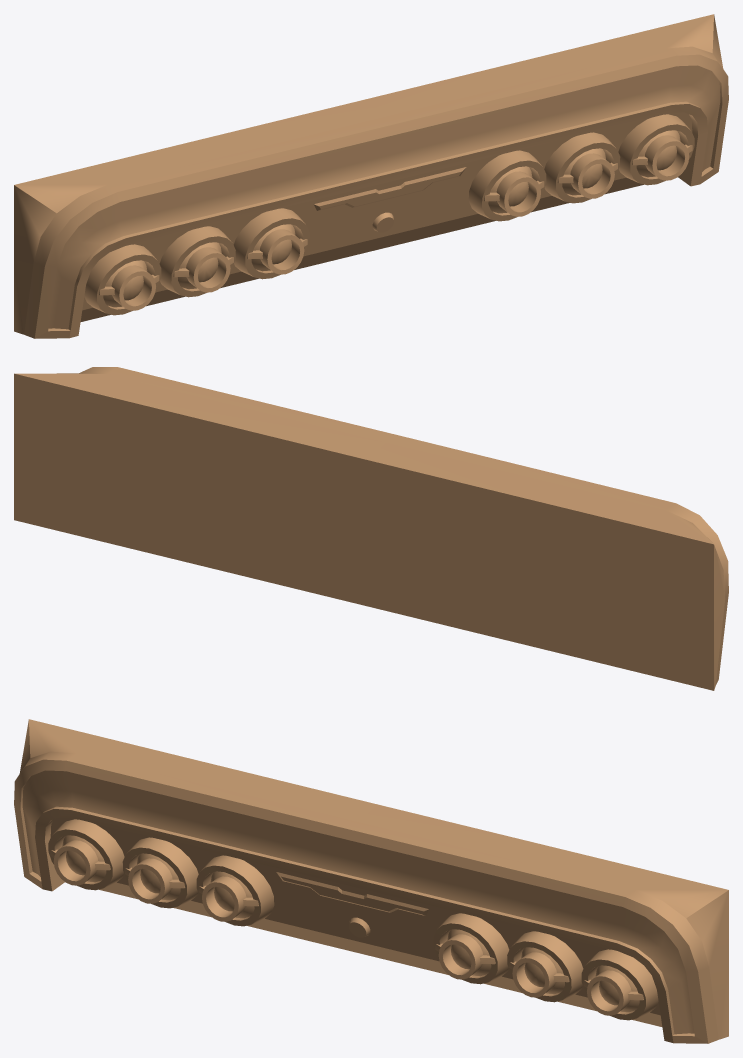
The model's file is obj_rewards_carbackpanel.fbx.
The picture shows the model from 3 angles, top to bottom: view 1: azimuth 30°, elevation 25°; view 2: azimuth 150°, elevation 25°; view 3: azimuth 330°, elevation 25°; orthographic projection.
Parts seen in each view (by area): view 1: cbp_part5_lp.001; view 2: cbp_part5_lp.001; view 3: cbp_part5_lp.001.
Boxes of the visible parts, bbox=[...] form: cbp_part5_lp.001: bbox=[14, 14, 728, 338]; cbp_part5_lp.001: bbox=[14, 367, 728, 690]; cbp_part5_lp.001: bbox=[14, 719, 728, 1043].
Size of the model in its own units: 10 by 2 by 0.9952.
